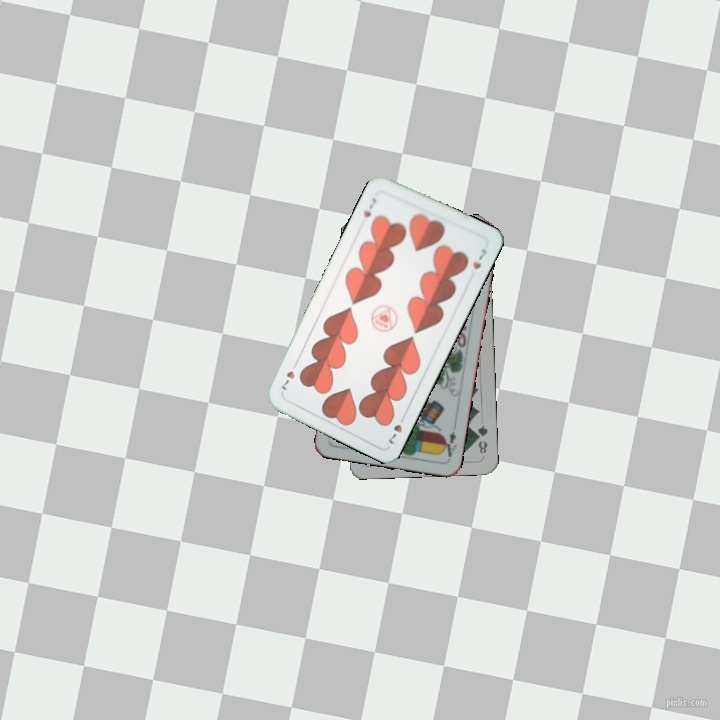EA: (438, 427, 460, 460)
G8: (473, 421, 490, 456)
H7: (385, 410, 408, 447), (359, 194, 379, 220)
